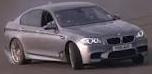front_view: (83, 29, 147, 64)
headlight: (77, 37, 101, 47)
side_glass: (19, 10, 59, 31)
